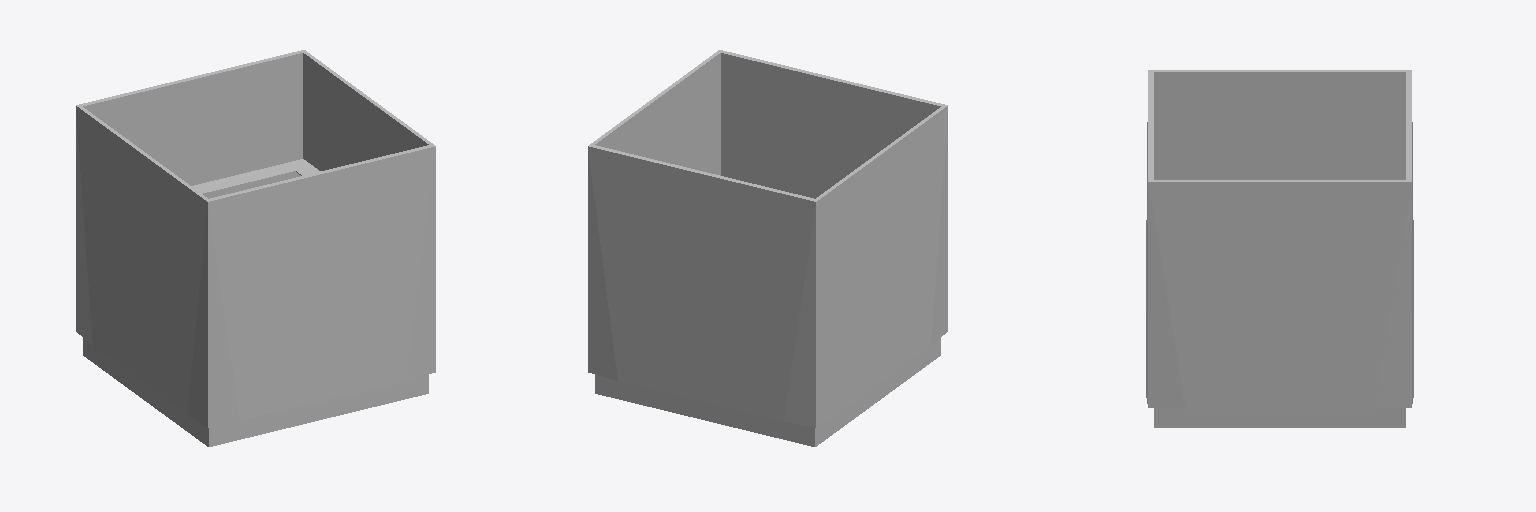
File: map3.obj
3 renders of one model, left to right at view 1: azimuth 30°, elevation 25°; view 2: azimuth 150°, elevation 25°; view 3: azimuth 270°, elevation 25°, orthographic.
Parts seen in each view (by area): view 1: Cube, Cube.011_Cube.006, Cube.010_Cube.012; view 2: Cube, Cube.011_Cube.006; view 3: Cube, Cube.011_Cube.006.
Part boxes in pixels (x1,y1,x2,y2): Cube: (76, 50, 435, 427); Cube.011_Cube.006: (83, 338, 428, 446); Cube.010_Cube.012: (192, 163, 295, 193); Cube: (588, 50, 947, 427); Cube.011_Cube.006: (595, 338, 940, 446); Cube: (1146, 70, 1413, 408); Cube.011_Cube.006: (1154, 408, 1405, 427).
Size of the model in its own units: 45.64 by 48.99 by 45.84.